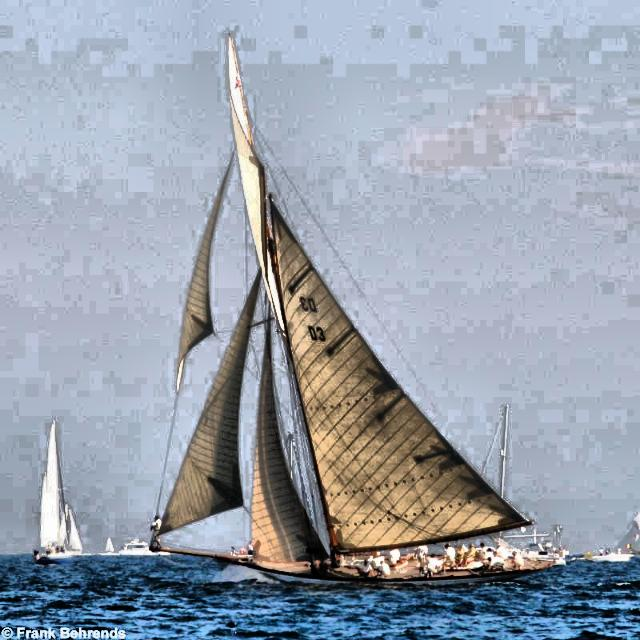sailing_vessel: (144, 30, 574, 590), (31, 418, 85, 564)
